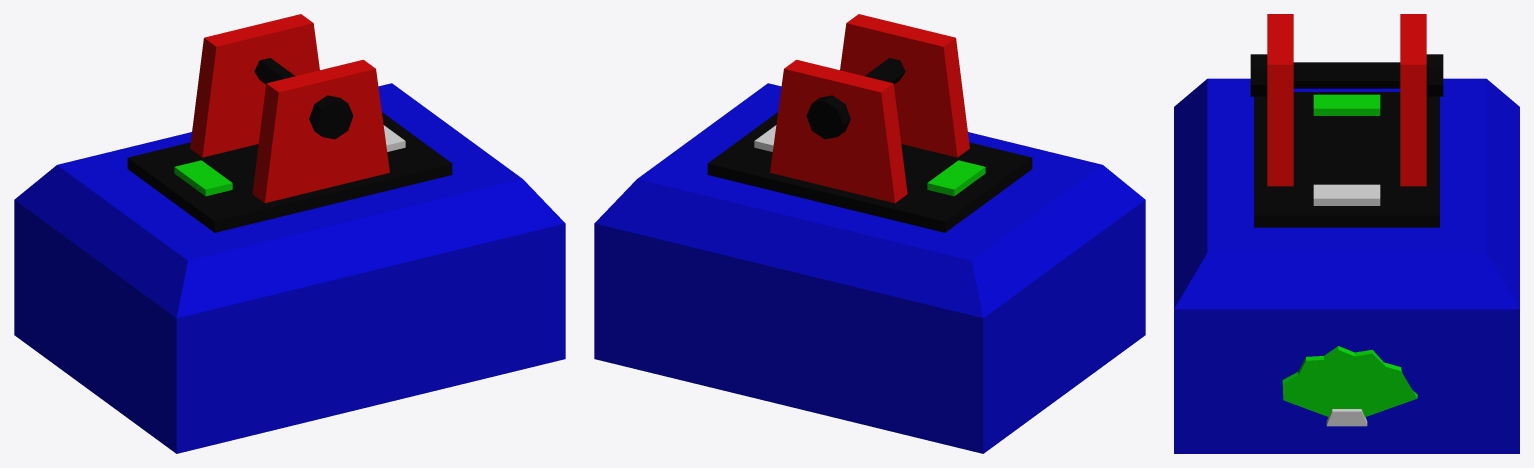
The model's file is SM_TN_PalancaBase.fbx.
3 renders of one model, left to right at view 1: azimuth 30°, elevation 25°; view 2: azimuth 150°, elevation 25°; view 3: azimuth 270°, elevation 25°, orthographic. The views are drawn at different scales.
Visible parts, largest first — view 1: SM_TN_PalancaBase; view 2: SM_TN_PalancaBase; view 3: SM_TN_PalancaBase.
Part boxes in pixels (left/top/right/bottom): SM_TN_PalancaBase: left=14, top=14, right=565, bottom=453; SM_TN_PalancaBase: left=594, top=14, right=1145, bottom=453; SM_TN_PalancaBase: left=1174, top=14, right=1519, bottom=453.
Size of what is drawn, in the model's own units: 74.36 by 52 by 52.
